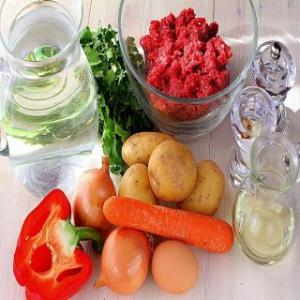bell_pepper: (14, 183, 88, 299)
carrot: (103, 194, 235, 252)
egg: (151, 240, 201, 296)
onion: (96, 222, 158, 298), (70, 153, 118, 243)
potato: (174, 158, 228, 222), (120, 125, 182, 172), (151, 138, 197, 200), (120, 157, 160, 210)
